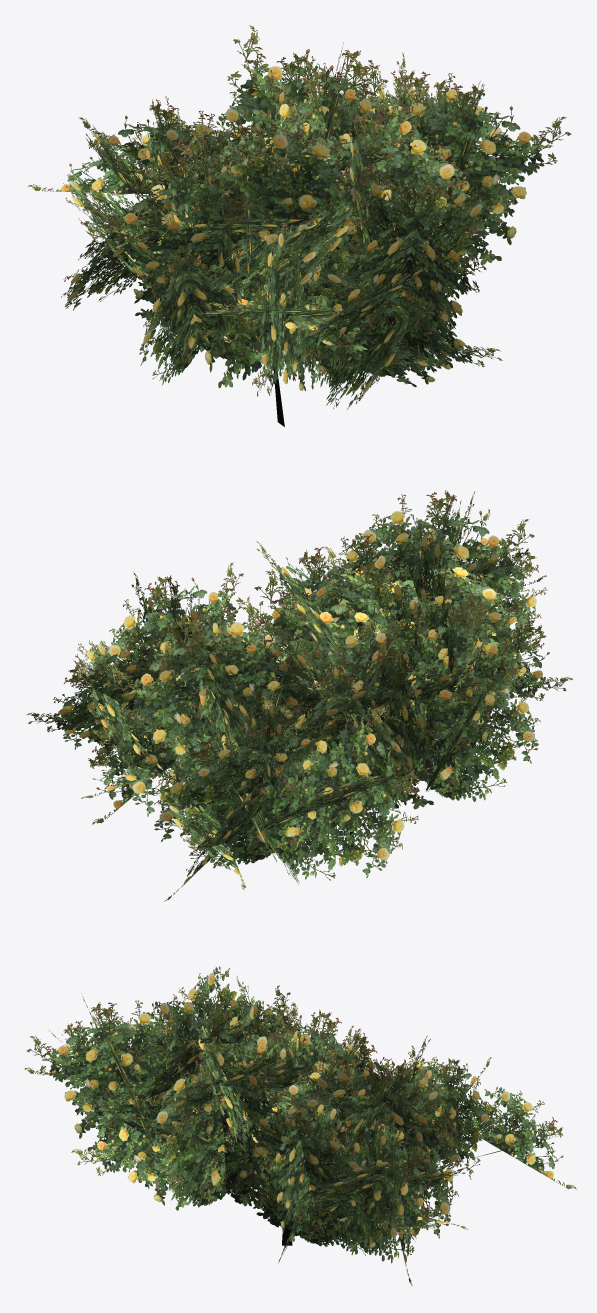
File: roseb2 lod1.FBX
3 views of the same model, one above another, from view 1: azimuth 30°, elevation 25°; view 2: azimuth 150°, elevation 25°; view 3: azimuth 270°, elevation 25° (orthographic). The views are drawn at different scales.
Parts seen in each view (by area): view 1: rose b2_LOD3; view 2: rose b2_LOD3; view 3: rose b2_LOD3.
Part boxes in pixels (x1,y1,x2,y2): rose b2_LOD3: (27,25,571,426); rose b2_LOD3: (26,490,572,901); rose b2_LOD3: (24,966,576,1285).
Bounding box in the file's own units: 71577 × 56312 × 95176.
